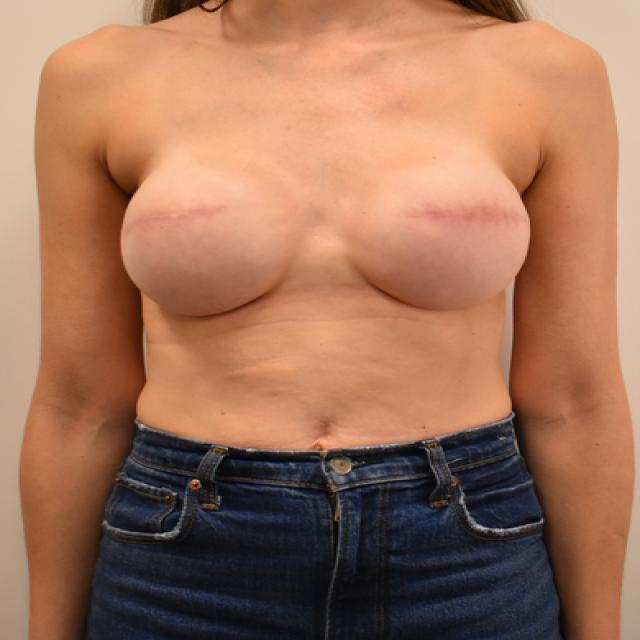Seno herido: (114, 157, 312, 326), (333, 158, 538, 320)
